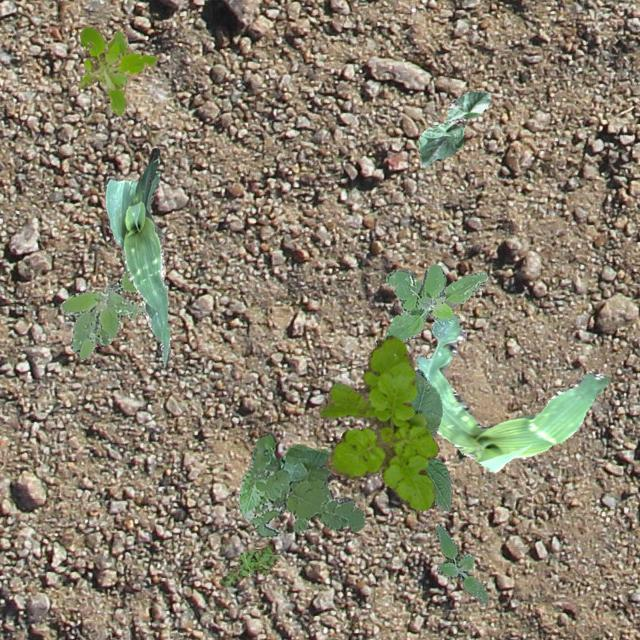crop: (416, 313, 608, 472), (104, 146, 170, 368), (408, 368, 451, 511), (418, 90, 490, 166)
weed: (318, 334, 438, 510), (236, 432, 364, 538), (380, 262, 488, 342), (60, 270, 144, 358), (77, 26, 156, 114), (434, 524, 488, 602), (218, 544, 278, 586)
